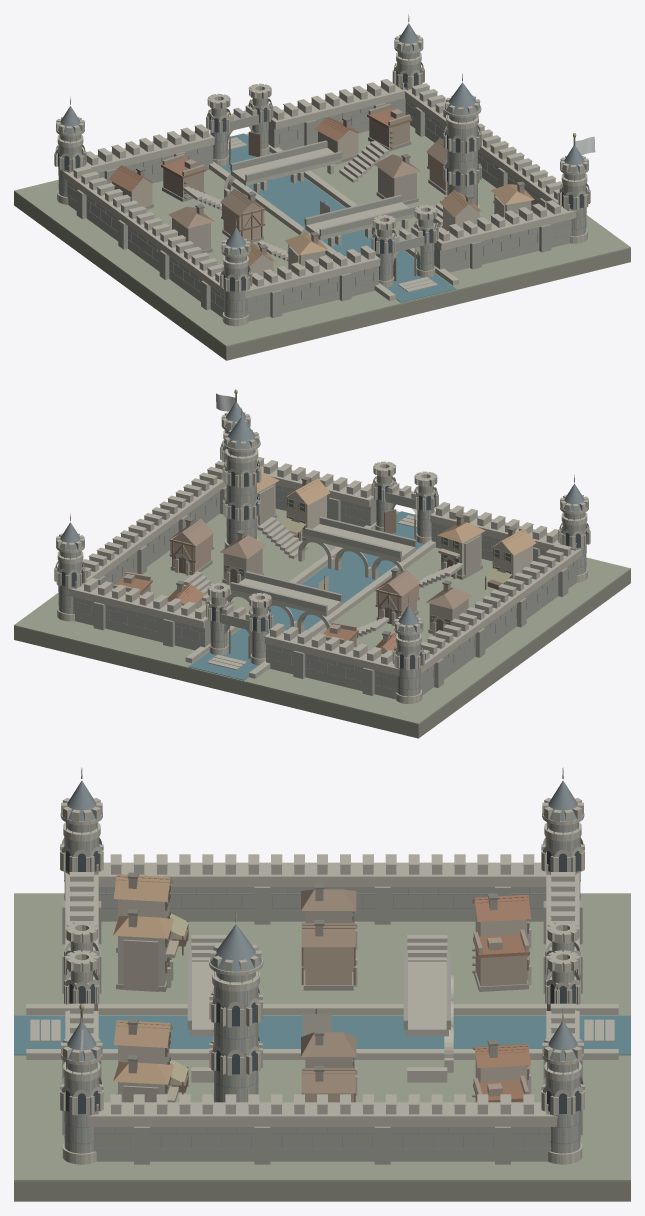
Rendered from city-3.glb.
3 views of the same model, one above another, from view 1: azimuth 30°, elevation 25°; view 2: azimuth 150°, elevation 25°; view 3: azimuth 270°, elevation 25° (orthographic). The views are drawn at different scales.
Parts seen in each view (by area): view 1: شهر کانالها; view 2: شهر کانالها; view 3: شهر کانالها.
Part boxes in pixels (x1=…): شهر کانالها: x1=14, y1=14, x2=630, y2=360; شهر کانالها: x1=14, y1=389, x2=630, y2=738; شهر کانالها: x1=14, y1=767, x2=630, y2=1201.
Bounding box in the file's own units: 11 × 4.03 × 10.
